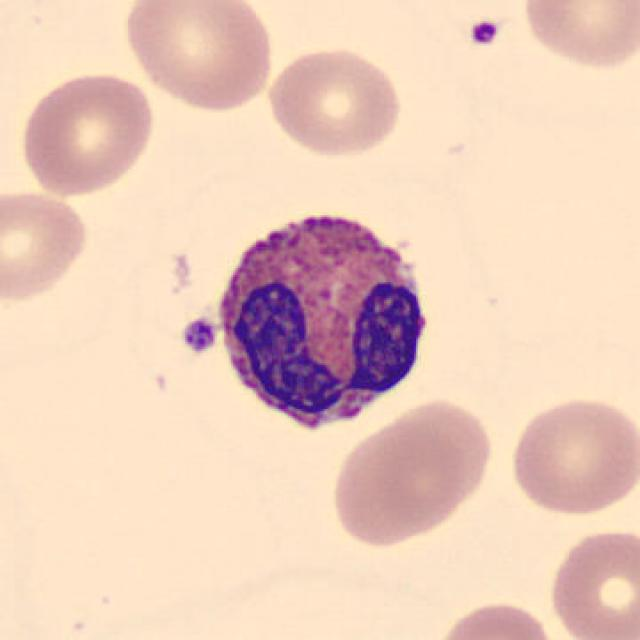Eosinophil: (208, 194, 441, 448)
Platelets: (178, 316, 220, 356), (464, 16, 505, 51)
RBC: (325, 395, 496, 548), (16, 67, 158, 199), (119, 0, 277, 113), (261, 42, 407, 160), (505, 392, 638, 518), (0, 185, 92, 306), (544, 523, 638, 640), (518, 0, 638, 74), (428, 596, 562, 640)
